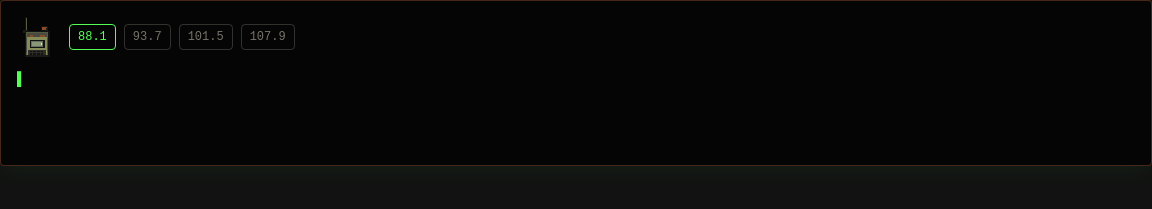
Scenario: Radio › types the intercepted message of the tuned channel and links to it
Click the button "93.7" at (147, 37), box [124,24,171,50]
Wait 10000 ms
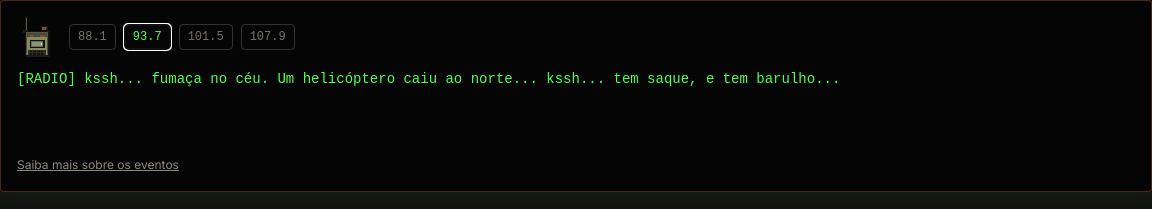
Expected: the text "[RADIO] kssh... fumaça no céu. Um helicóptero caiu ao norte... kssh... tem saque, e tem barulho..." is shown, [17,71,840,87]
